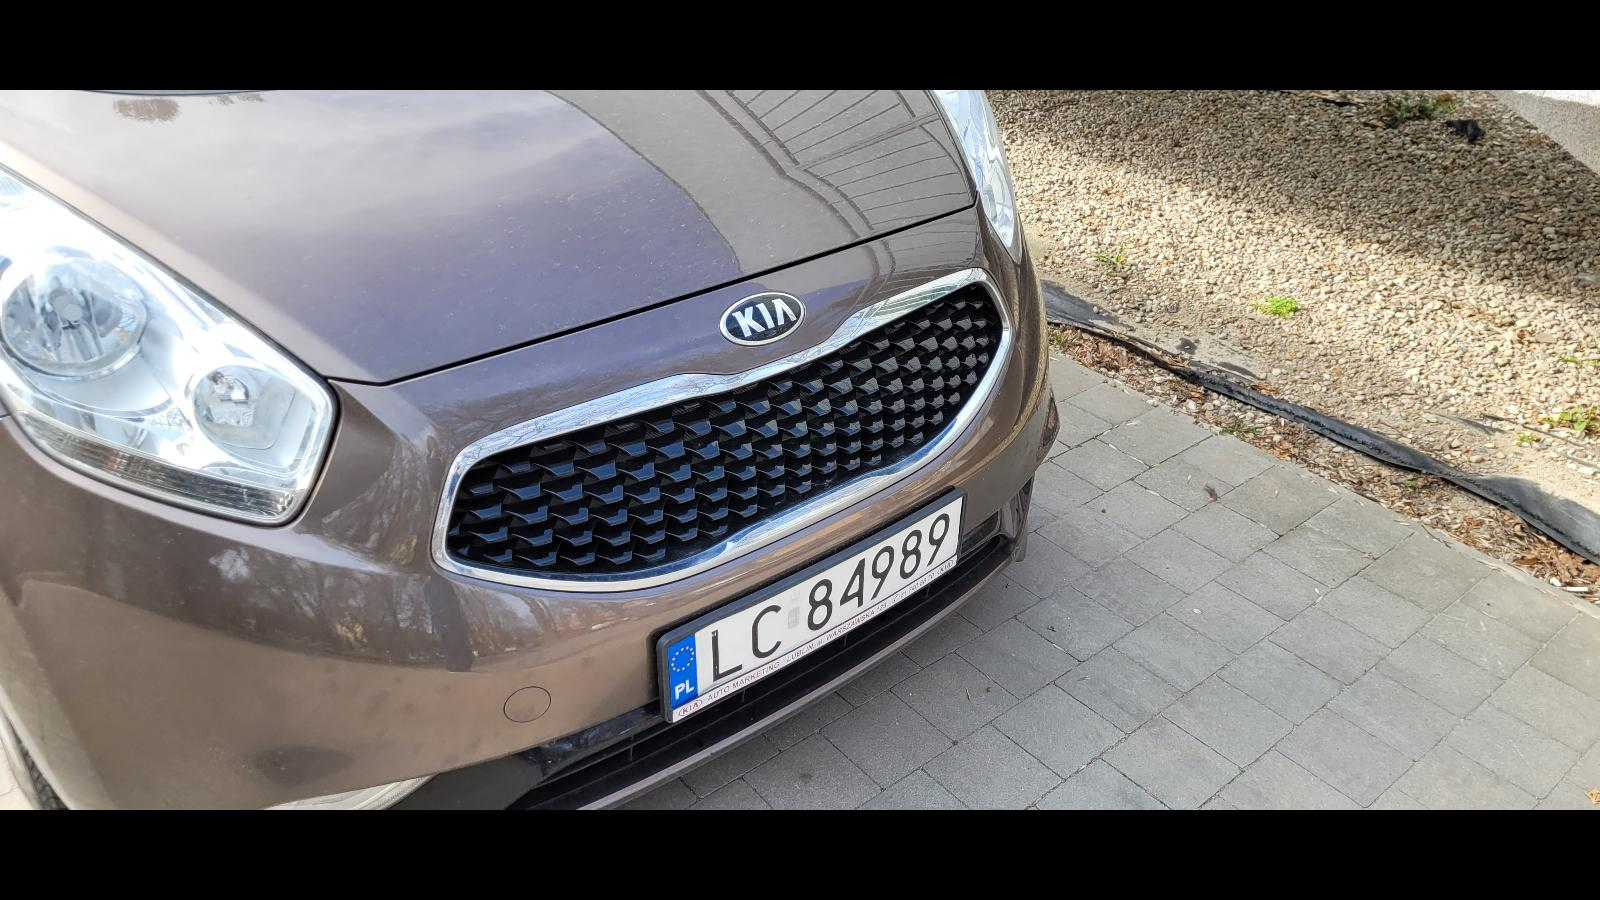plates: (658, 488, 968, 725)
